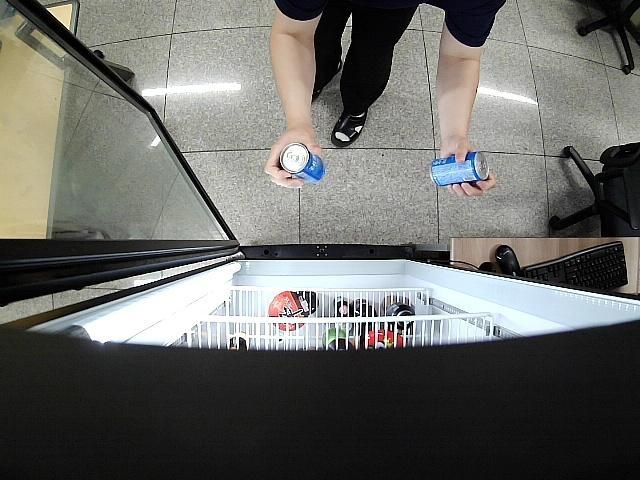15_letsbe: (430, 151, 490, 184), (280, 143, 326, 184)
